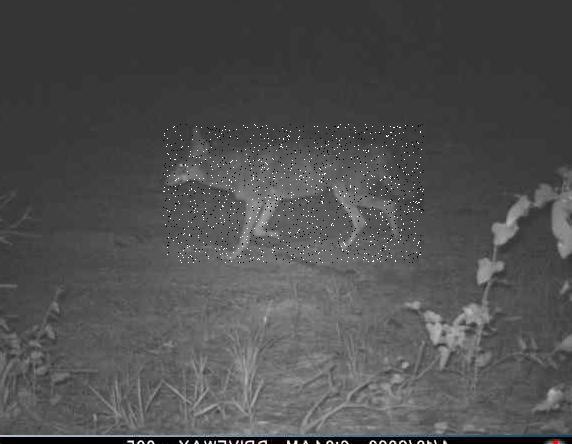Coyote: (162, 124, 423, 263)
